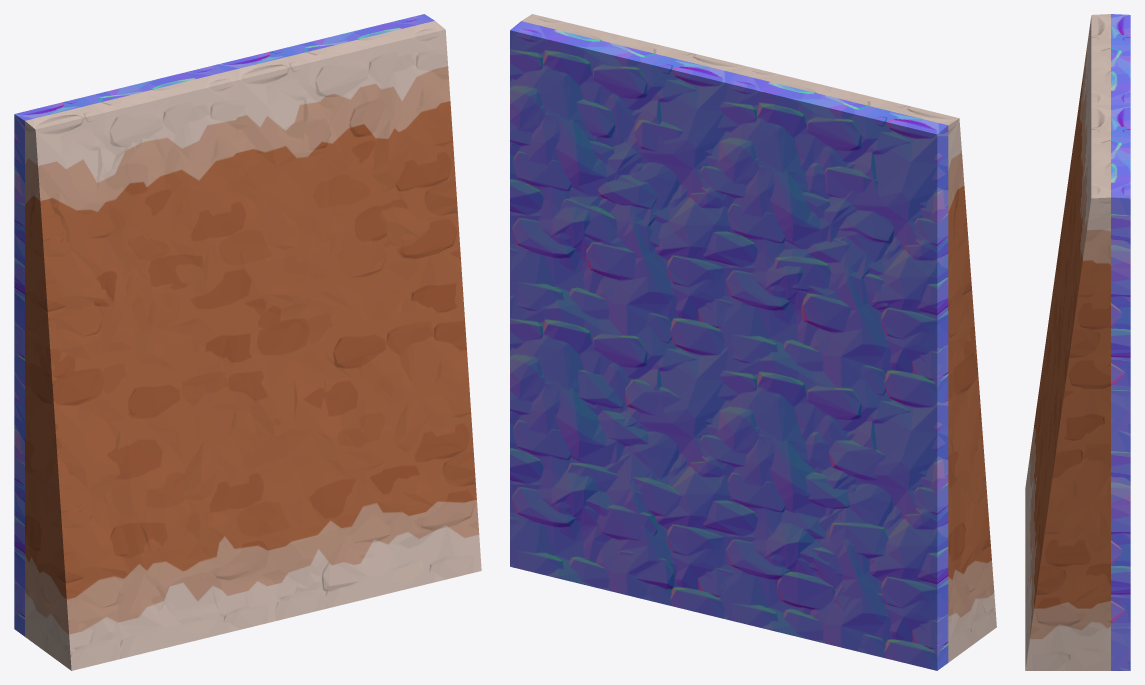
File: SM_Bld_Wall_Top_01.fbx
The picture shows the model from 3 angles, left to right: view 1: azimuth 30°, elevation 25°; view 2: azimuth 150°, elevation 25°; view 3: azimuth 270°, elevation 25°; orthographic projection. The views are drawn at different scales.
Visible parts, largest first — view 1: SM_Bld_Wall_Top_01; view 2: SM_Bld_Wall_Top_01; view 3: SM_Bld_Wall_Top_01.
Part boxes in pixels (bbox=[...]): SM_Bld_Wall_Top_01: bbox=[14, 14, 481, 670]; SM_Bld_Wall_Top_01: bbox=[510, 14, 996, 670]; SM_Bld_Wall_Top_01: bbox=[1025, 14, 1130, 670].
Size of the model in its own units: 250 by 301 by 60.45.
